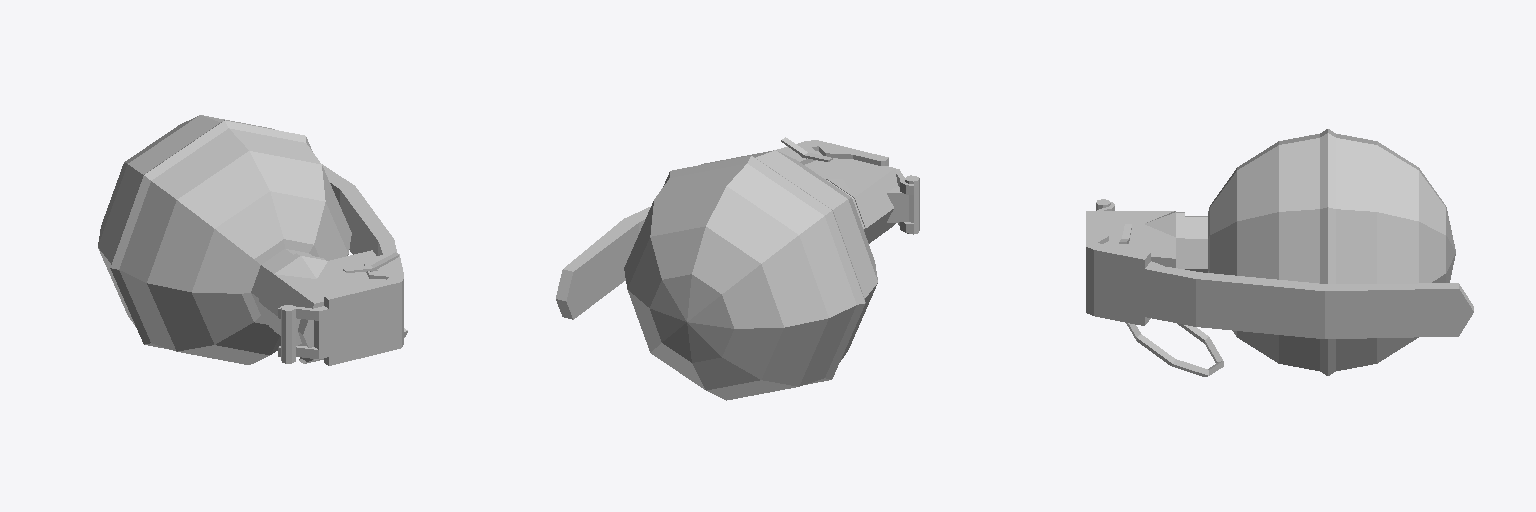
Rendered from granade.obj.
3 views of the same model, side by side, from view 1: azimuth 30°, elevation 25°; view 2: azimuth 150°, elevation 25°; view 3: azimuth 270°, elevation 25° (orthographic).
Bounding box in the file's own units: 0.0691 × 0.065 × 0.0954.